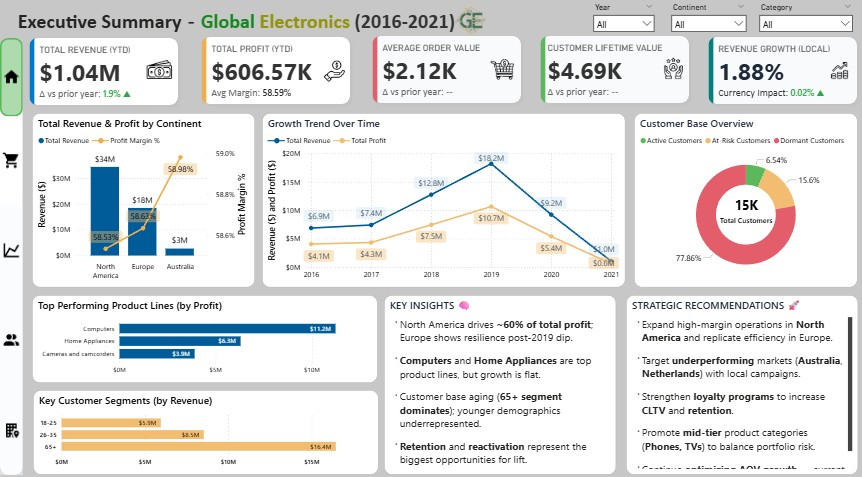

The dashboard page shown, as its layout file describes it:
{"tool":"powerbi","page":{"name":"Executive Summary","canvas":[1600,900],"ordinal":0},"visuals":[{"type":"textbox","box":[28.3,8.3,870,60],"z":0},{"type":"cardVisual","fields":{"Data":["customers.Customer Average Order Value"]},"box":[677.1,54.3,300,150],"z":0,"group":"g3"},{"type":"cardVisual","fields":{"Data":["customers.Avg CLTV"]},"box":[988.6,54.3,300,150],"z":0,"group":"g4"},{"type":"cardVisual","fields":{"Data":["sales_final.Total Profit YTD"]},"box":[361.4,55.7,300,150],"z":0,"group":"g2"},{"type":"cardVisual","fields":{"Data":["exchange_rates_final.Revenue Growth (Local Currency) %"]},"box":[1300,55.7,300,150],"z":0,"group":"g5"},{"type":"cardVisual","fields":{"Data":["sales_final.Total Revenue YTD"]},"box":[42,58,300,150],"z":0,"group":"g1"},{"type":"shape","box":[0,70.4,42.3,809.2],"z":0,"group":"g6"},{"type":"donutChart","title":"Customer Base Overview","fields":{"Y":["customers.Active Customers","customers.At-Risk Customers","customers.Dormant Customers","customers.Unacquired"]},"box":[1174.3,208.6,414.3,322.9],"z":0,"group":"g7"},{"type":"image","title":"Logo","box":[827.3,7.8,87,61],"z":1000},{"type":"image","box":[266.3,99.4,57.1,61.4],"z":1000,"group":"g1"},{"type":"image","box":[903.4,101,52.9,57.1],"z":1000,"group":"g3"},{"type":"image","box":[1220.8,101,52.9,52.9],"z":1000,"group":"g4"},{"type":"image","box":[592.2,108.1,52.9,48.6],"z":1000,"group":"g2"},{"type":"image","box":[1532.9,108.6,42.9,42.9],"z":1000,"group":"g5"},{"type":"actionButton","box":[0,212,42,167.5],"z":1000,"group":"g6"},{"type":"card","fields":{"Values":["customers.Total Customers"]},"box":[1312.4,337.2,138.1,104.3],"z":1000,"group":"g7"},{"type":"group","id":"g1","title":"Card_1","box":[42,58,300,150],"z":2000},{"type":"actionButton","box":[0,379.5,42,167.5],"z":2000,"group":"g6"},{"type":"group","id":"g2","title":"Card_2","box":[361.4,55.7,300,150],"z":3000},{"type":"actionButton","box":[0,712.5,42,167.5],"z":3000,"group":"g6"},{"type":"group","id":"g3","title":"Card_3","box":[677.1,54.3,300,150],"z":4000},{"type":"actionButton","box":[0,545,42,167.5],"z":4000,"group":"g6"},{"type":"group","id":"g4","title":"Card_4","box":[988.6,54.3,300,150],"z":5000},{"type":"actionButton","box":[0,69.9,42.3,145.3],"z":5000,"group":"g6"},{"type":"group","id":"g5","title":"Card_5","box":[1300,55.7,300,150],"z":6000},{"type":"group","id":"g6","title":"Page_nav","box":[0,69.9,42.3,810.1],"z":7000},{"type":"slicer","fields":{"Values":["Calendar.Year"]},"box":[1088.6,0,132.9,68.6],"z":8000},{"type":"slicer","fields":{"Values":["customers.Continent"]},"box":[1232.9,0,158.6,68.6],"z":9000},{"type":"lineClusteredColumnComboChart","title":"Total Revenue & Profit by Continent","fields":{"Category":["customers.Continent"],"Y":["sales_final.Total Revenue"],"Y2":["sales_final.Profit Margin %"]},"box":[60,208.3,413.3,323.3],"z":10000},{"type":"lineChart","title":"Growth Trend Over Time","fields":{"Category":["Calendar.Year","Calendar.Date.Variation.Date Hierarchy.Quarter"],"Y":["sales_final.Total Revenue","sales_final.Total Profit"]},"box":[485.7,208.6,672.9,322.9],"z":11000},{"type":"group","id":"g7","title":"Pie","box":[1174.3,208.6,414.3,322.9],"z":12000},{"type":"clusteredBarChart","title":"Top Performing Product Lines (by Profit)","fields":{"Category":["products.Category"],"Y":["sales_final.Total Profit"]},"box":[60,545.7,640,162.9],"z":13000},{"type":"clusteredBarChart","title":"Key Customer Segments (by Revenue)","fields":{"Category":["customers.Age Group"],"Y":["sales_final.Total Revenue"]},"box":[61.4,722.9,640,157.1],"z":14000},{"type":"textbox","title":"KEY INSIGHTS 🧠","box":[711.4,547.1,430,332.9],"z":15000},{"type":"textbox","title":"STRATEGIC RECOMMENDATIONS 🚀","box":[1158.6,547.1,430,332.9],"z":16000},{"type":"slicer","fields":{"Values":["products.Category"]},"box":[1395.7,0,192.9,68.6],"z":17000}]}

Visuals, with their boxes in screenshot pixels (x1, y1, x2, y2), scaled from the page's 1600x900 canvas onto the 862x477 screenshot:
textbox: 15/4/484/36
cardVisual - customers.Customer Average Order Value: 365/29/526/108
cardVisual - customers.Avg CLTV: 533/29/694/108
cardVisual - sales_final.Total Profit YTD: 195/30/356/109
cardVisual - exchange_rates_final.Revenue Growth (Local Currency) %: 700/30/861/109
cardVisual - sales_final.Total Revenue YTD: 23/31/184/110
shape: 0/37/23/466
"Customer Base Overview" donutChart: 633/111/856/282
"Logo" image: 446/4/493/36
image: 143/53/174/85
image: 487/54/515/84
image: 658/54/686/82
image: 319/57/348/83
image: 826/58/849/80
actionButton: 0/112/23/201
card - customers.Total Customers: 707/179/781/234
"Card_1" group: 23/31/184/110
actionButton: 0/201/23/290
"Card_2" group: 195/30/356/109
actionButton: 0/378/23/466
"Card_3" group: 365/29/526/108
actionButton: 0/289/23/378
"Card_4" group: 533/29/694/108
actionButton: 0/37/23/114
"Card_5" group: 700/30/861/109
"Page_nav" group: 0/37/23/466
slicer - Calendar.Year: 586/0/658/36
slicer - customers.Continent: 664/0/750/36
"Total Revenue & Profit by Continent" lineClusteredColumnComboChart: 32/110/255/282
"Growth Trend Over Time" lineChart: 262/111/624/282
"Pie" group: 633/111/856/282
"Top Performing Product Lines (by Profit)" clusteredBarChart: 32/289/377/376
"Key Customer Segments (by Revenue)" clusteredBarChart: 33/383/378/466
"KEY INSIGHTS 🧠" textbox: 383/290/615/466
"STRATEGIC RECOMMENDATIONS 🚀" textbox: 624/290/856/466
slicer - products.Category: 752/0/856/36
